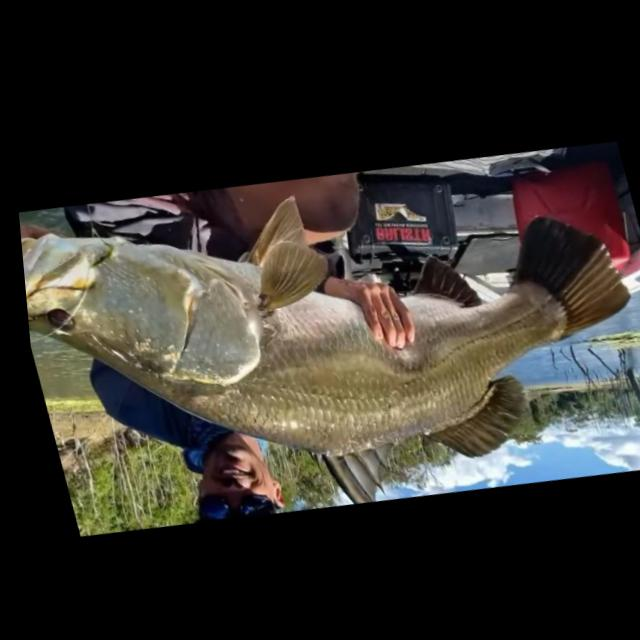Seabass: (12, 132, 640, 572)
